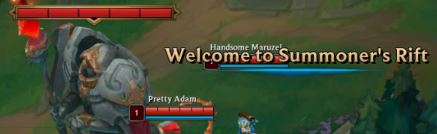bar: (203, 50, 292, 72), (127, 103, 217, 123)
